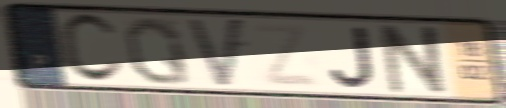C: (56, 11, 127, 86)
J: (327, 24, 378, 91)
N: (378, 23, 453, 98)
Q: (122, 14, 194, 88)
V: (183, 15, 247, 92)
Z: (248, 21, 323, 90)
